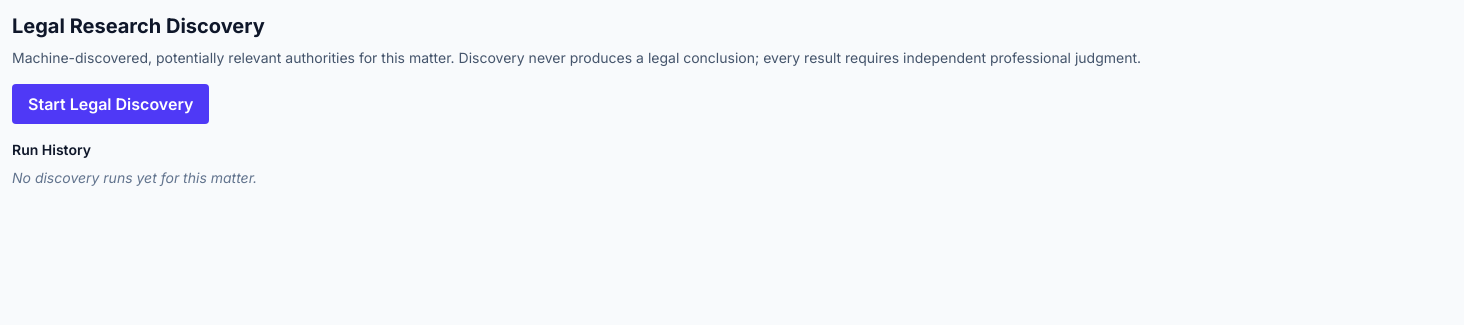
Test: Stage 9D-3 LegalDiscoveryTab › POST failure asymmetry: shows a safe error AND refetches run history (run may have persisted as FAILED)
Check: the text "No discovery runs yet for this matter." is shown, box [12,169,257,186]
Click the button "Start Legal Discovery": {"x": 111, "y": 104} [12,84,209,124]
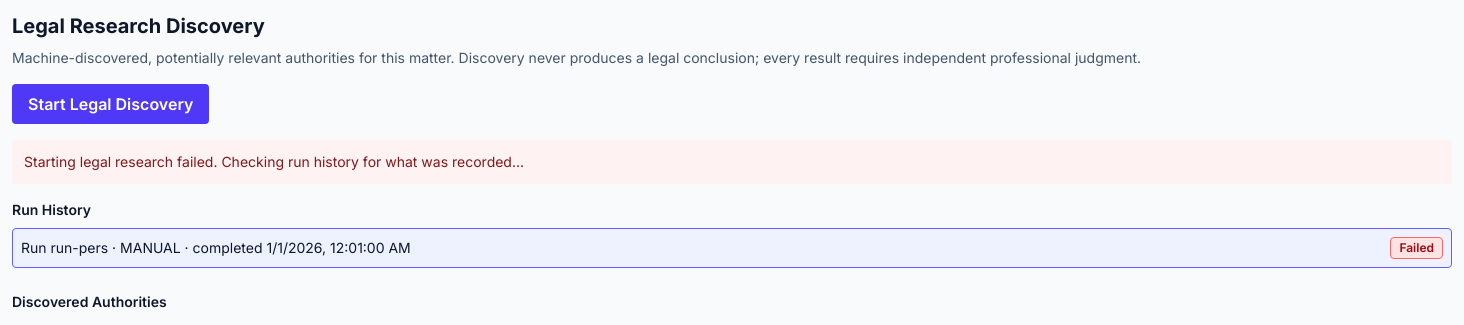
Check: the message "Starting legal research failed. Checking run history for what was recorded..." is shown, box [12,140,1452,184]
Check: the text "Failed" is shown, box [1390,237,1443,259]
